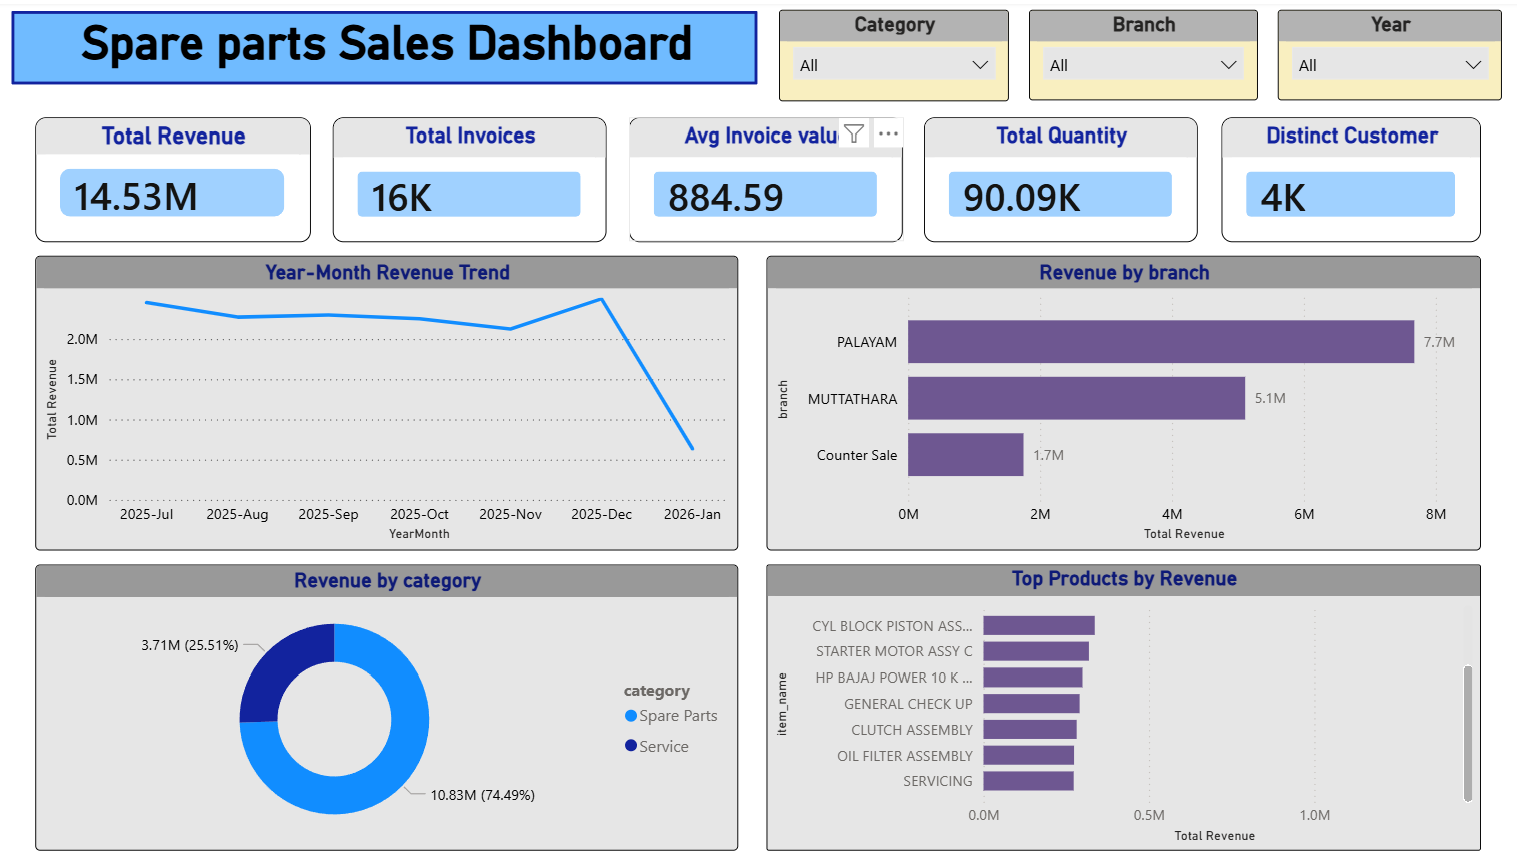

Layout of this report page (visuals, bound fields, positions):
{"tool":"powerbi","page":{"name":"Page 1","canvas":[1280,720],"ordinal":0},"visuals":[{"type":"cardVisual","title":"Total Revenue","fields":{"Data":["facts_table.Total Revenue"]},"box":[34.3,97.1,230.9,104.2],"z":0},{"type":"cardVisual","title":"Total Invoices","fields":{"Data":["facts_table.Total Invoices"]},"box":[284.2,97.1,229.8,104.2],"z":1000},{"type":"cardVisual","title":"Avg Invoice value","fields":{"Data":["facts_table.Avg Invoice Value"]},"box":[532.9,97.1,229.8,104.2],"z":2000},{"type":"cardVisual","title":"Total Quantity ","fields":{"Data":["facts_table.Total Quantity"]},"box":[780.5,97.1,229.8,104.2],"z":3000},{"type":"cardVisual","title":"Distinct Customer","fields":{"Data":["facts_table.Distinct Customers"]},"box":[1029.2,97.1,217.9,104.2],"z":4000},{"type":"lineChart","title":"Year-Month Revenue Trend","fields":{"Category":["Dim_date.YearMonth"],"Y":["facts_table.Total Revenue"]},"box":[34.3,213.2,589.8,247.5],"z":5000},{"type":"clusteredBarChart","title":" Revenue by branch","fields":{"Category":["Dim_branches.branch"],"Y":["facts_table.Total Revenue"]},"box":[647.8,213.2,599.3,247.5],"z":6000},{"type":"donutChart","title":" Revenue by category","fields":{"Category":["Dim_product.category"],"Y":["facts_table.Total Revenue"]},"box":[34.3,471.4,589.8,239.2],"z":7000},{"type":"clusteredBarChart","title":"Top Products by Revenue","fields":{"Y":["facts_table.Total Revenue"],"Category":["Dim_product.item_name"]},"box":[647.8,471.4,599.3,239.2],"z":8000},{"type":"slicer","title":"Year","fields":{"Values":["Dim_date.Year"]},"box":[1076.5,7.1,188.3,75.8],"z":9000},{"type":"slicer","title":"Branch","fields":{"Values":["Dim_branches.branch"]},"box":[868.1,7.1,191.9,75.8],"z":10000},{"type":"slicer","title":"Category","fields":{"Values":["Dim_product.category"]},"box":[658.5,7.1,193,77],"z":11000},{"type":"textbox","title":"Spare parts Sales Dashboard","box":[14.2,8.3,625.3,61.6],"z":12000}]}

Visuals, with their boxes in screenshot pixels (x1, y1, x2, y2), scaled from the page's 1280x720 canvas onto the 1517x855 screenshot:
"Total Revenue" cardVisual: (41, 115, 314, 239)
"Total Invoices" cardVisual: (337, 115, 609, 239)
"Avg Invoice value" cardVisual: (632, 115, 904, 239)
"Total Quantity " cardVisual: (925, 115, 1197, 239)
"Distinct Customer" cardVisual: (1220, 115, 1478, 239)
"Year-Month Revenue Trend" lineChart: (41, 253, 740, 547)
" Revenue by branch" clusteredBarChart: (768, 253, 1478, 547)
" Revenue by category" donutChart: (41, 560, 740, 844)
"Top Products by Revenue" clusteredBarChart: (768, 560, 1478, 844)
"Year" slicer: (1276, 8, 1499, 98)
"Branch" slicer: (1029, 8, 1256, 98)
"Category" slicer: (780, 8, 1009, 100)
"Spare parts Sales Dashboard" textbox: (17, 10, 758, 83)
